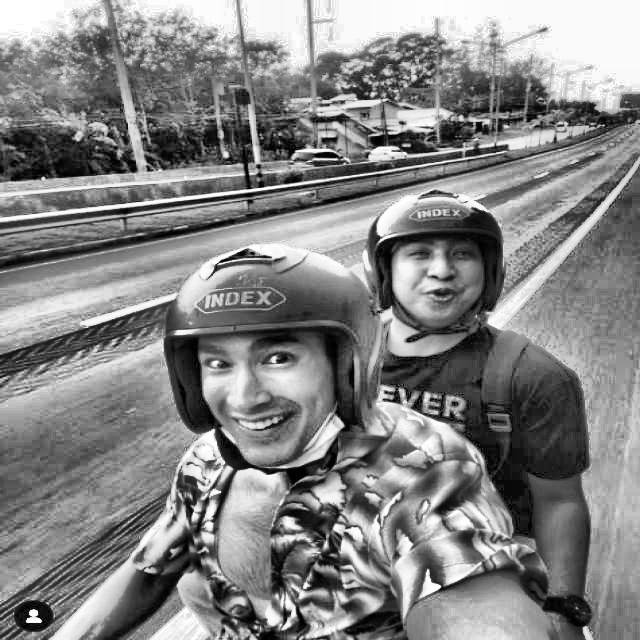Helmet: (158, 237, 388, 477), (357, 185, 510, 338)
